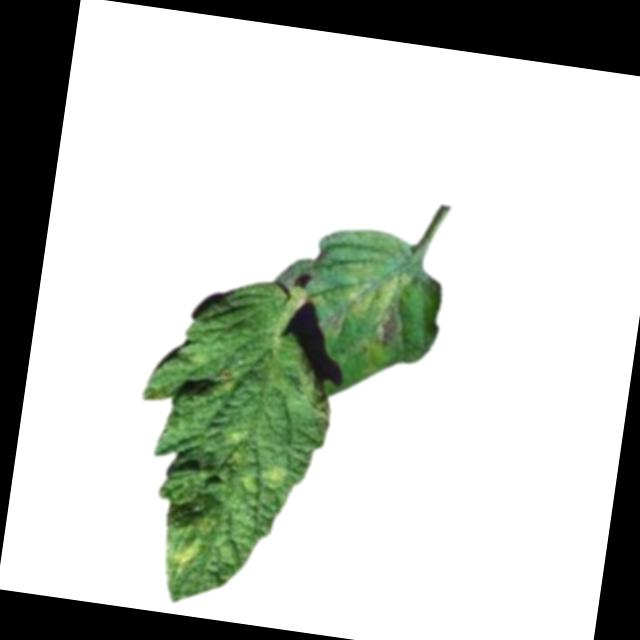Leaf_Mold: (341, 260, 412, 350), (170, 532, 202, 570), (257, 457, 287, 492)
